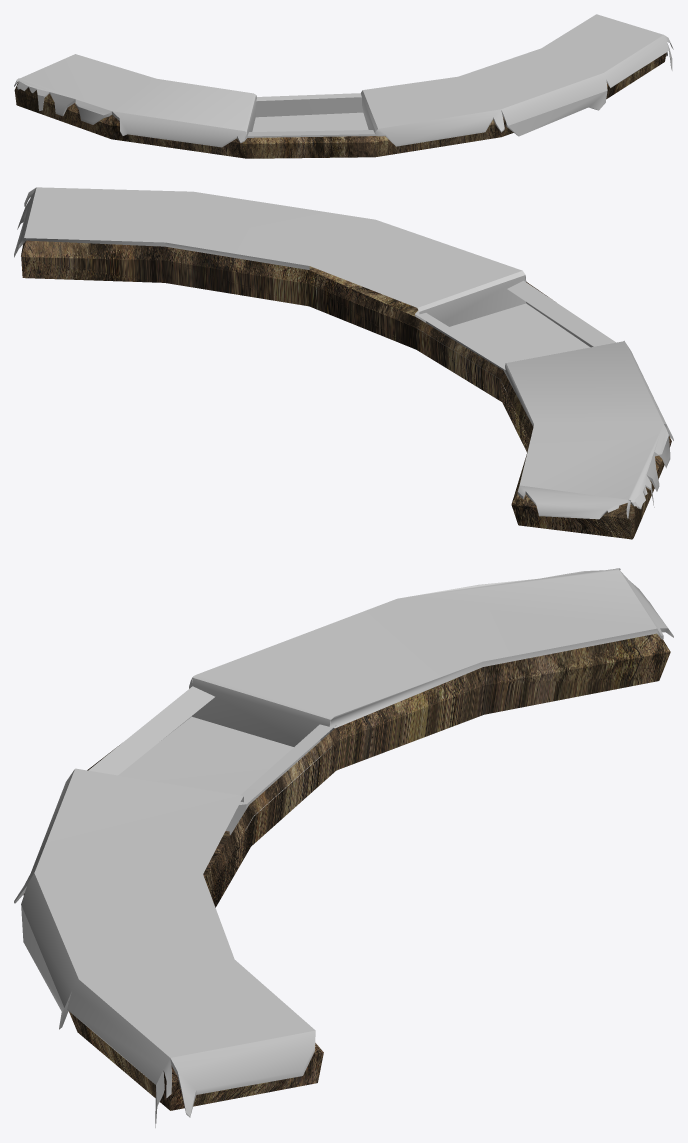
The model's file is Plat012.FBX.
3 views of the same model, one above another, from view 1: azimuth 30°, elevation 25°; view 2: azimuth 150°, elevation 25°; view 3: azimuth 270°, elevation 25° (orthographic). The views are drawn at different scales.
Visible parts, largest first — view 1: Plat013; view 2: Plat013; view 3: Plat013.
Part boxes in pixels (x1,y1,x2,y2): Plat013: [14, 14, 673, 158]; Plat013: [14, 187, 673, 539]; Plat013: [14, 568, 673, 1127].
Size of what is drawn, in the model's own units: 97.42 by 6.06 by 53.94.
